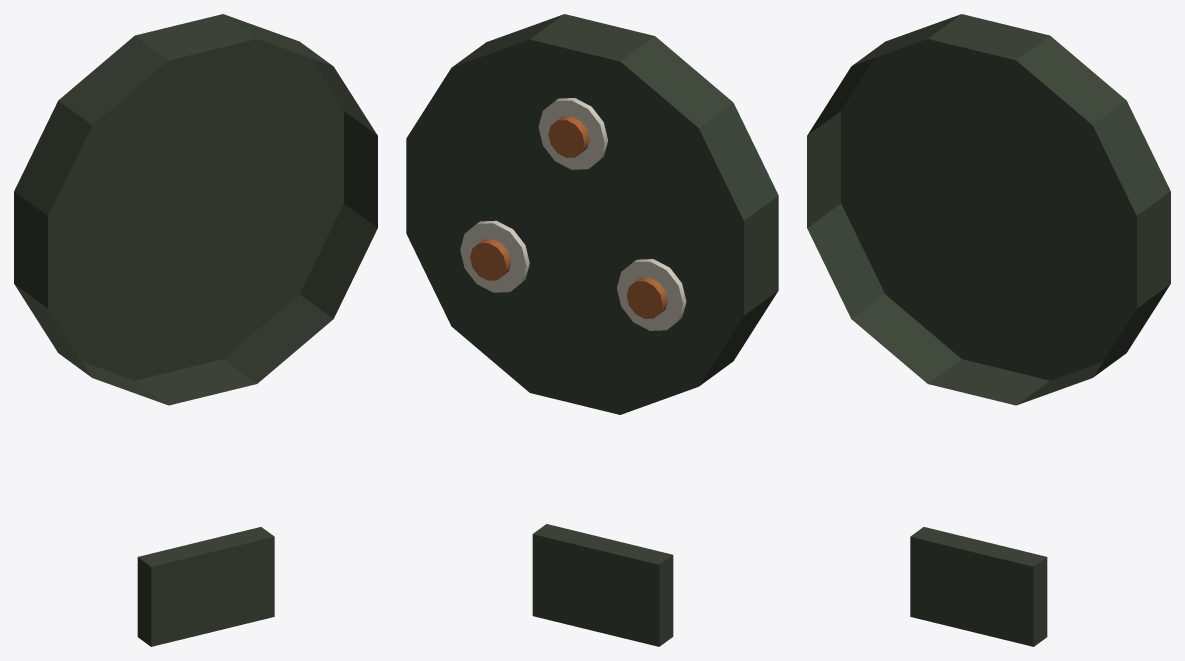
The model's file is tz11_busbar.obj.
The picture shows the model from 3 angles, left to right: view 1: azimuth 30°, elevation 25°; view 2: azimuth 150°, elevation 25°; view 3: azimuth 330°, elevation 25°; orthographic projection. The views are drawn at different scales.
Visible parts, largest first — view 1: tz11_busbar; view 2: tz11_busbar; view 3: tz11_busbar.
Boxes of the visible parts, bbox=[...] form: tz11_busbar: bbox=[14, 14, 377, 646]; tz11_busbar: bbox=[406, 14, 778, 646]; tz11_busbar: bbox=[807, 14, 1170, 646].
Size of the model in its own units: 1.12 by 1.89 by 0.25.
